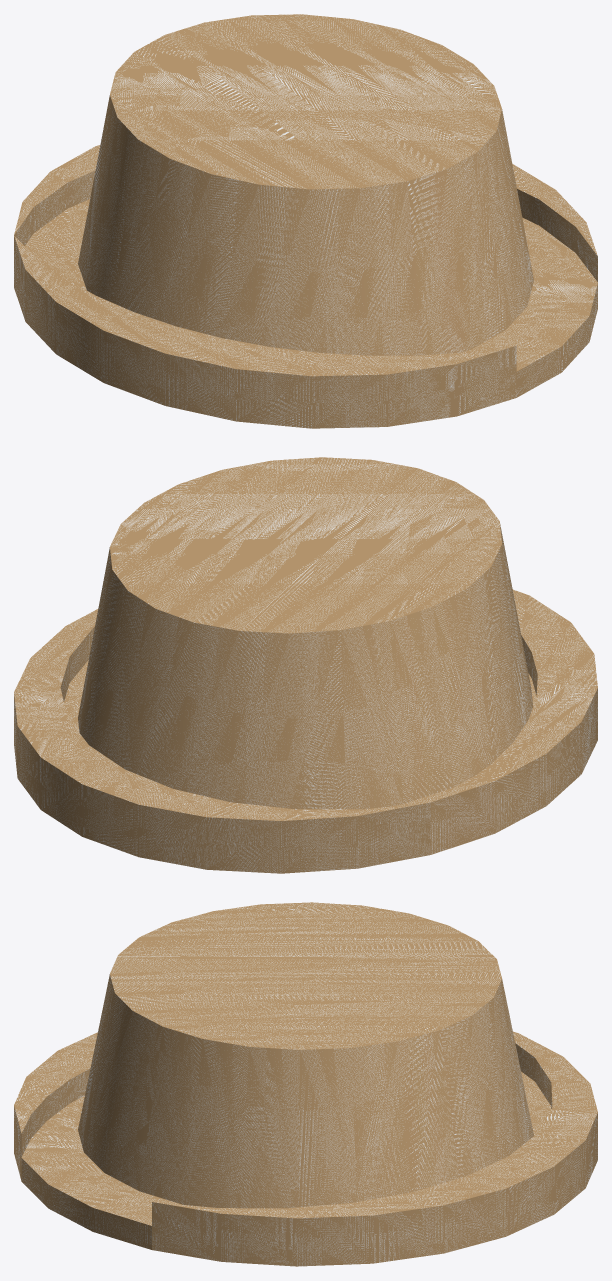
File: original-9.obj
3 views of the same model, one above another, from view 1: azimuth 30°, elevation 25°; view 2: azimuth 150°, elevation 25°; view 3: azimuth 270°, elevation 25° (orthographic). The views are drawn at different scales.
Visible parts, largest first — view 1: Group6/mesh8/mesh8-geometry#mesh8-geometry; view 2: Group6/mesh8/mesh8-geometry#mesh8-geometry; view 3: Group6/mesh8/mesh8-geometry#mesh8-geometry.
Boxes of the visible parts, box(x1,y1,x2,y2) form: Group6/mesh8/mesh8-geometry#mesh8-geometry: box(14, 14, 597, 428); Group6/mesh8/mesh8-geometry#mesh8-geometry: box(14, 457, 597, 873); Group6/mesh8/mesh8-geometry#mesh8-geometry: box(14, 902, 597, 1266).
Size of the model in its own units: 0.1042 by 0.0399 by 0.1171.
